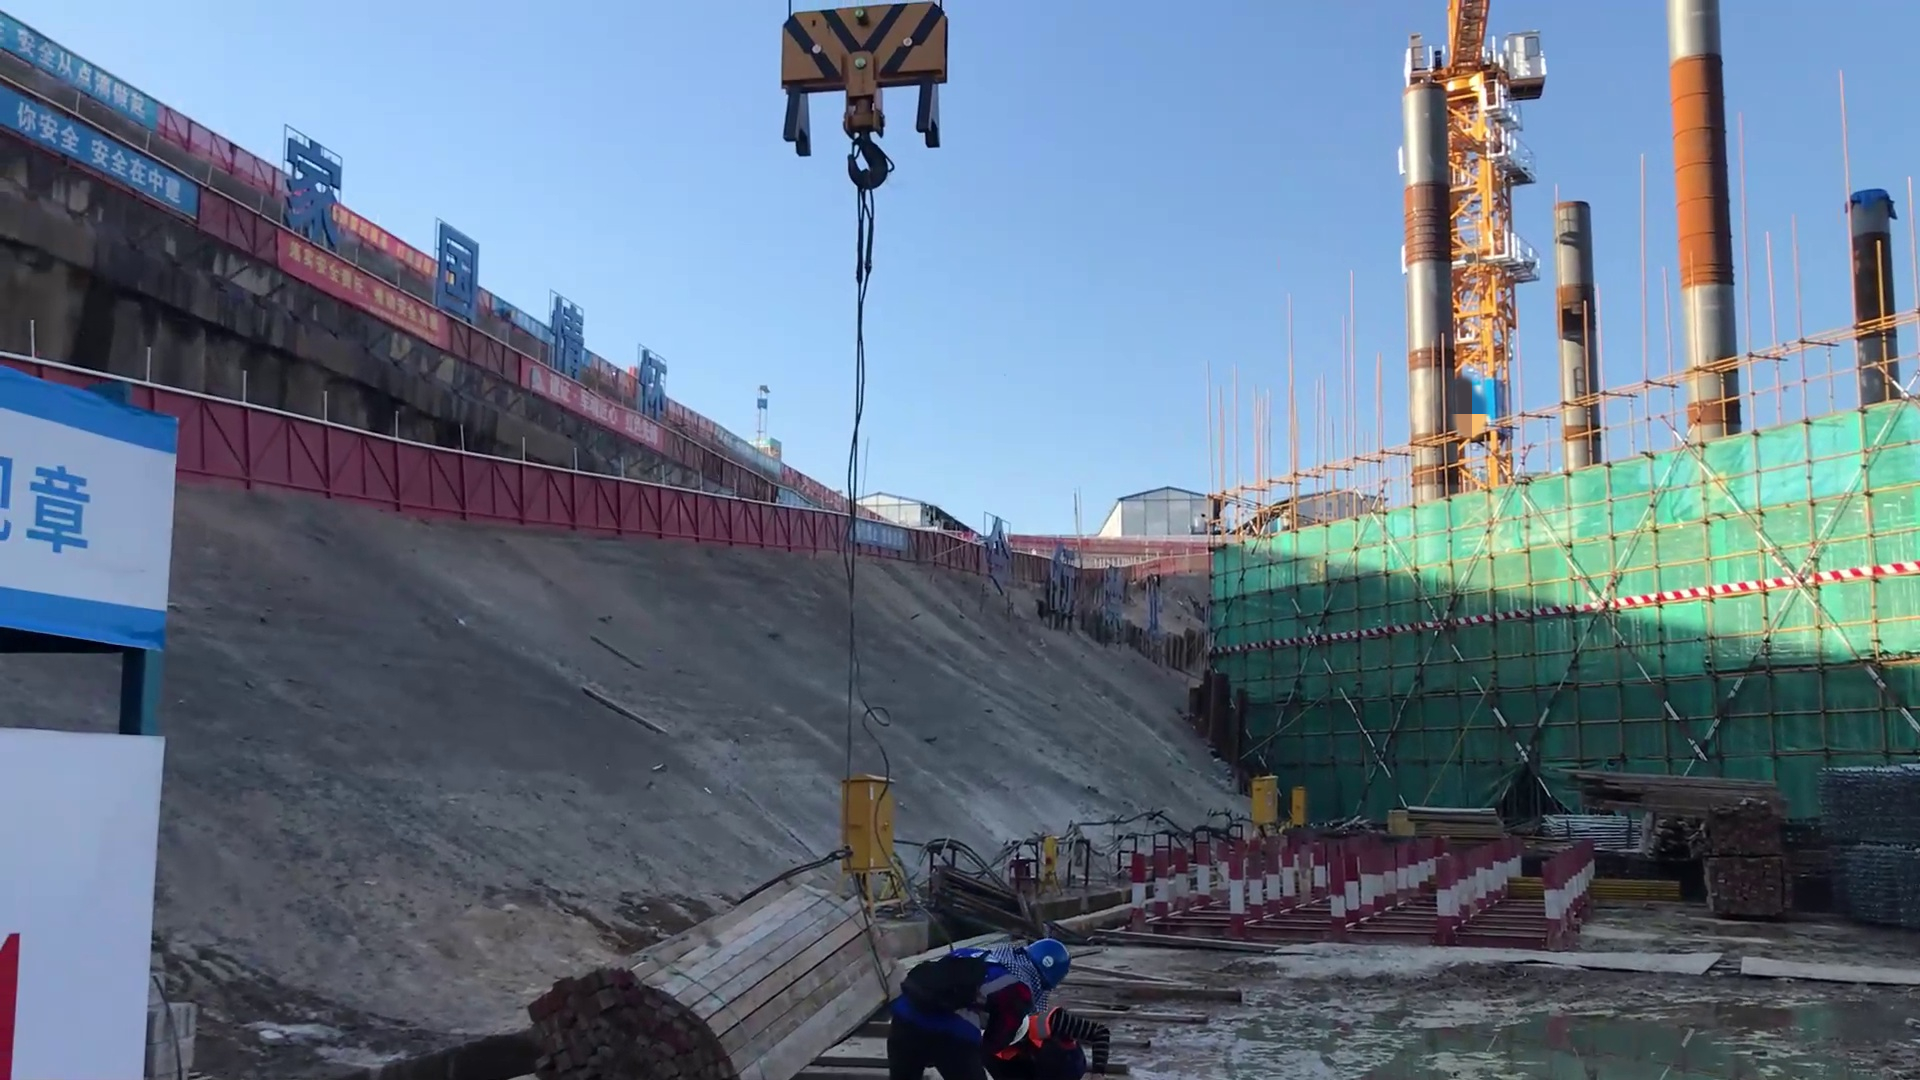ebox: (818, 760, 918, 901), (1244, 774, 1285, 829), (1285, 783, 1312, 825)
fence: (170, 397, 534, 557), (530, 461, 843, 570)
helmet: (1017, 932, 1074, 992)
hook: (785, 1, 944, 157)
person: (876, 932, 1074, 1080)
scaffold: (1809, 763, 1913, 921)
slogan: (251, 222, 445, 390), (10, 87, 195, 253), (1, 15, 154, 135)
wood: (537, 834, 871, 1080), (1556, 757, 1767, 829)
